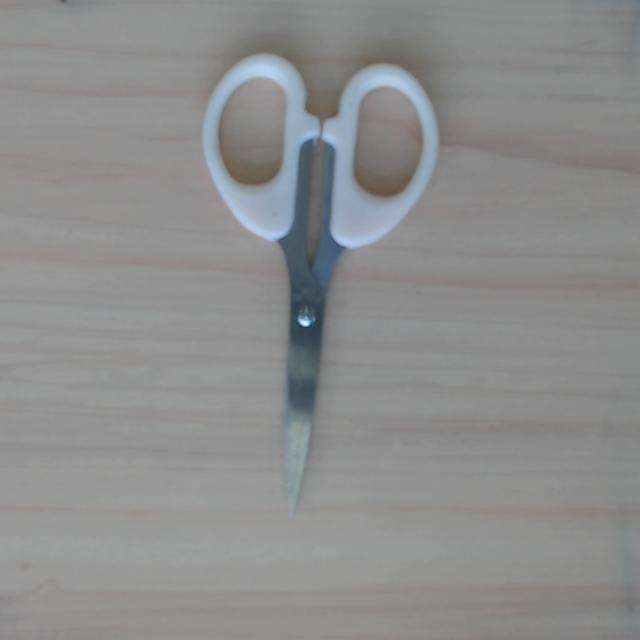Gunting: (75, 5, 466, 514)
